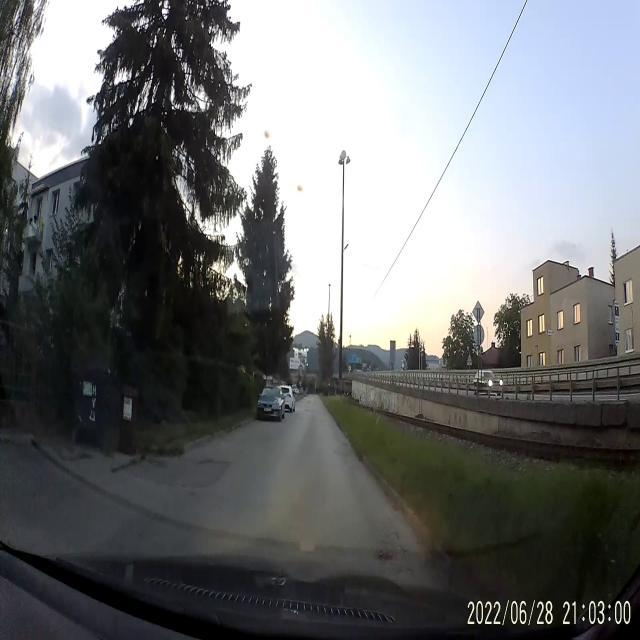Pothole: (112, 446, 233, 503)
